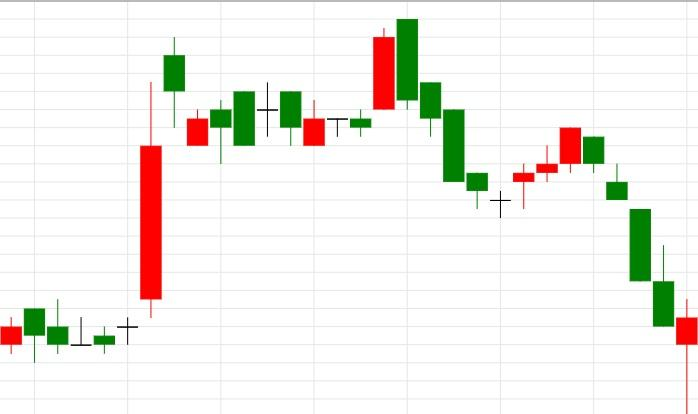morning_star_rise: (396, 19, 534, 218)
three_black_crows_fall: (490, 128, 651, 281)
